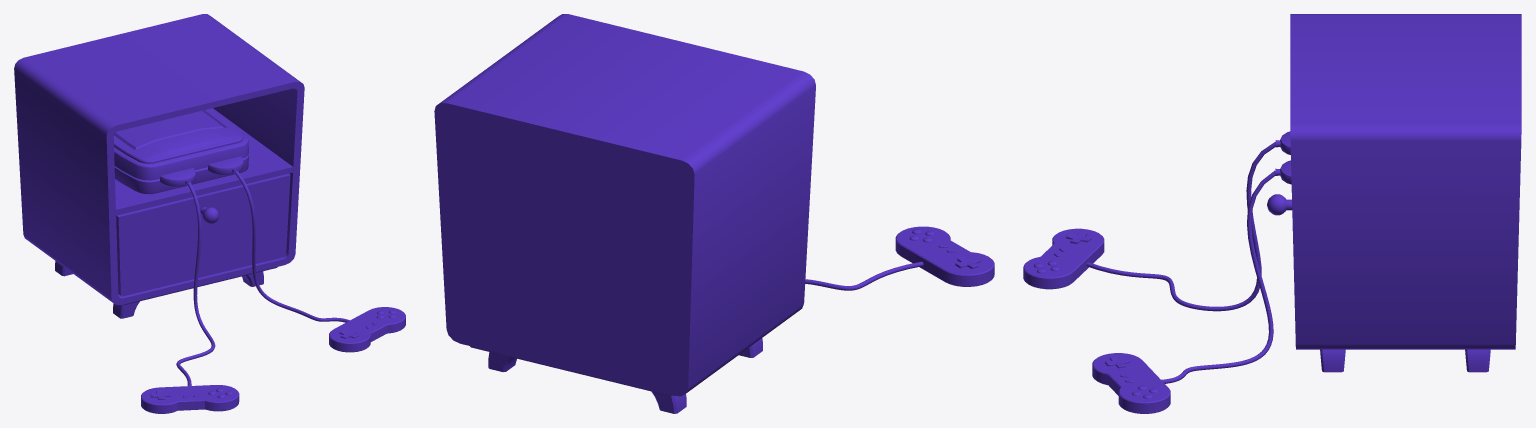
Rendered from Furniture&Console.fbx.
The picture shows the model from 3 angles, left to right: view 1: azimuth 30°, elevation 25°; view 2: azimuth 150°, elevation 25°; view 3: azimuth 270°, elevation 25°; orthographic projection. The views are drawn at different scales.
Parts seen in each view (by area): view 1: SM_Furniture, SM_Console, SM_Controls, SM_Controls_Buttons.004, SM_Console_Cable, SM_Console_Cable.005; view 2: SM_Furniture, SM_Controls, SM_Console_Cable; view 3: SM_Furniture, SM_Console_Cable, SM_Controls, SM_Controls_Buttons.004.
Boxes of the visible parts, x1,y1,x2,y2 form: SM_Furniture: [14, 14, 304, 318]; SM_Console: [113, 108, 248, 194]; SM_Controls: [141, 385, 239, 413]; SM_Controls_Buttons.004: [329, 307, 405, 352]; SM_Console_Cable: [176, 168, 349, 385]; SM_Console_Cable.005: [160, 156, 243, 186]; SM_Furniture: [434, 14, 815, 413]; SM_Controls: [895, 226, 994, 286]; SM_Console_Cable: [805, 261, 923, 290]; SM_Furniture: [1267, 14, 1521, 372]; SM_Console_Cable: [1086, 140, 1280, 383]; SM_Controls: [1023, 228, 1104, 289]; SM_Controls_Buttons.004: [1092, 353, 1170, 413].
Bounding box in the file's own units: 381 × 265 × 460.
